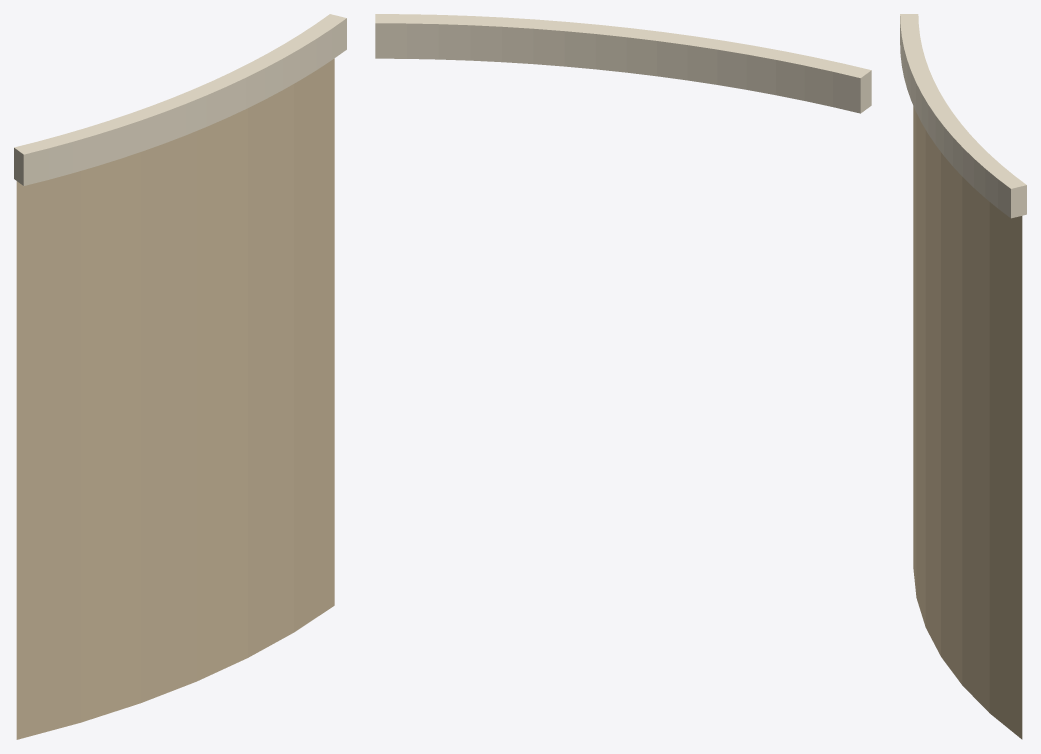
Rendered from ArcWall_R4_A30.glb.
3 renders of one model, left to right at view 1: azimuth 30°, elevation 25°; view 2: azimuth 150°, elevation 25°; view 3: azimuth 270°, elevation 25°, orthographic. The views are drawn at different scales.
Visible parts, largest first — view 1: PBK_Indochine_ArcWall_R4_A30_Exterior_Surface.001, PBK_floor_band.048; view 2: PBK_floor_band.048; view 3: PBK_Indochine_ArcWall_R4_A30_Exterior_Surface.001, PBK_floor_band.048.
Part boxes in pixels (x1=…): PBK_Indochine_ArcWall_R4_A30_Exterior_Surface.001: x1=16, y1=58, x2=334, y2=739; PBK_floor_band.048: x1=14, y1=14, x2=346, y2=185; PBK_floor_band.048: x1=375, y1=14, x2=871, y2=113; PBK_Indochine_ArcWall_R4_A30_Exterior_Surface.001: x1=913, y1=106, x2=1022, y2=739; PBK_floor_band.048: x1=900, y1=14, x2=1026, y2=218.
Size of the model in its own units: 2.03 by 3 by 0.6225.
